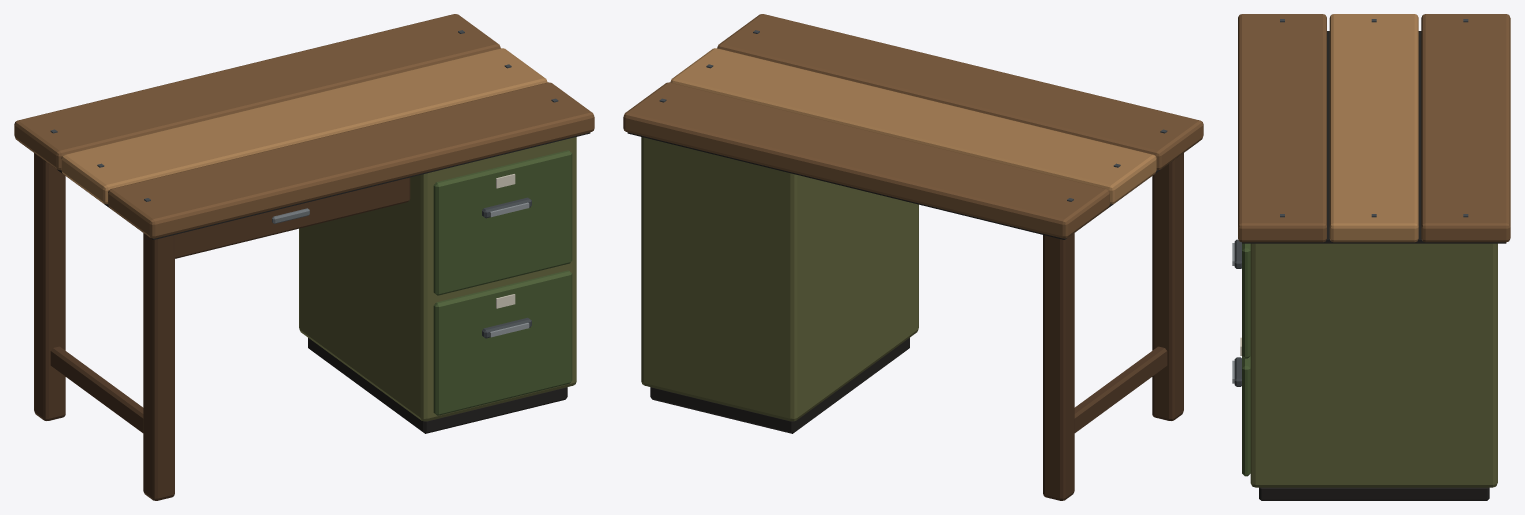
Rendered from table_wood_pismennyy_idle.glb.
3 views of the same model, side by side, from view 1: azimuth 30°, elevation 25°; view 2: azimuth 150°, elevation 25°; view 3: azimuth 270°, elevation 25° (orthographic).
Visible parts, largest first — view 1: table_wood_pismennyy_idle; view 2: table_wood_pismennyy_idle; view 3: table_wood_pismennyy_idle.
Part boxes in pixels (x1,y1,x2,y2): table_wood_pismennyy_idle: (14,14,594,500); table_wood_pismennyy_idle: (623,14,1203,500); table_wood_pismennyy_idle: (1232,14,1510,500).
Size of the model in its own units: 1.2 by 0.753 by 0.663.
1 material, 1 textured.
